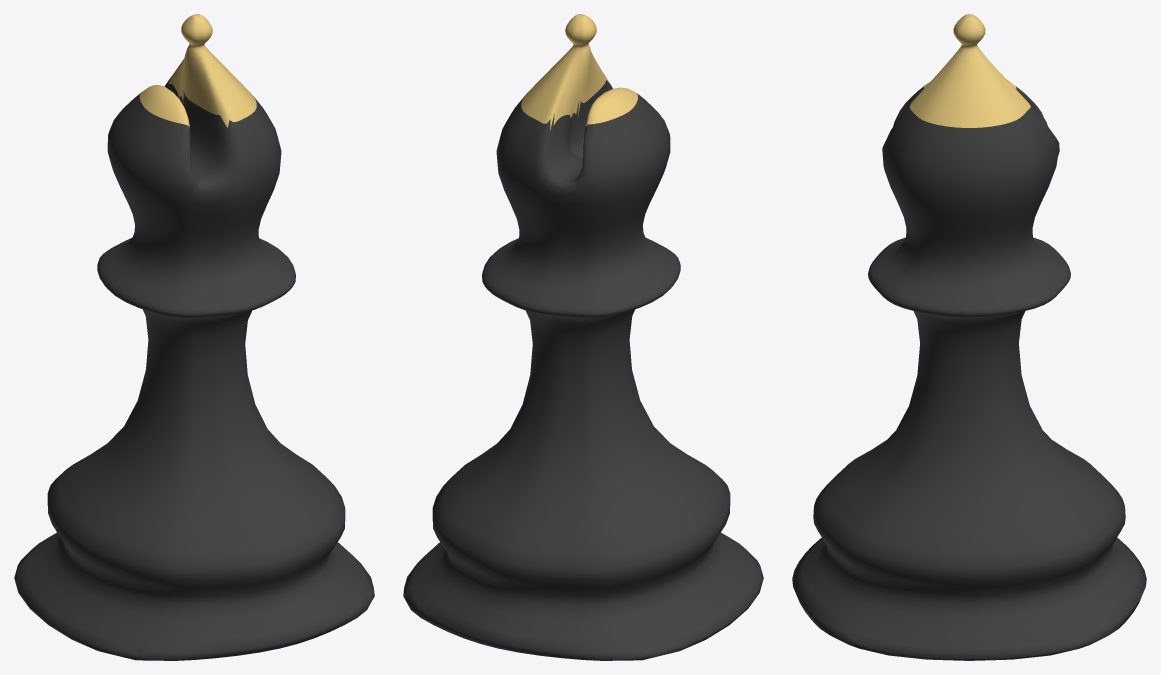
Rendered from sade_b_b.glb.
The picture shows the model from 3 angles, left to right: view 1: azimuth 30°, elevation 25°; view 2: azimuth 150°, elevation 25°; view 3: azimuth 270°, elevation 25°; orthographic projection.
Parts seen in each view (by area): view 1: x; view 2: x; view 3: x.
Boxes of the visible parts, bbox=[...] form: x: bbox=[14, 14, 374, 660]; x: bbox=[403, 14, 763, 660]; x: bbox=[792, 14, 1146, 660].
Bounding box in the file's own units: 0.4861 × 0.9 × 0.4996.
